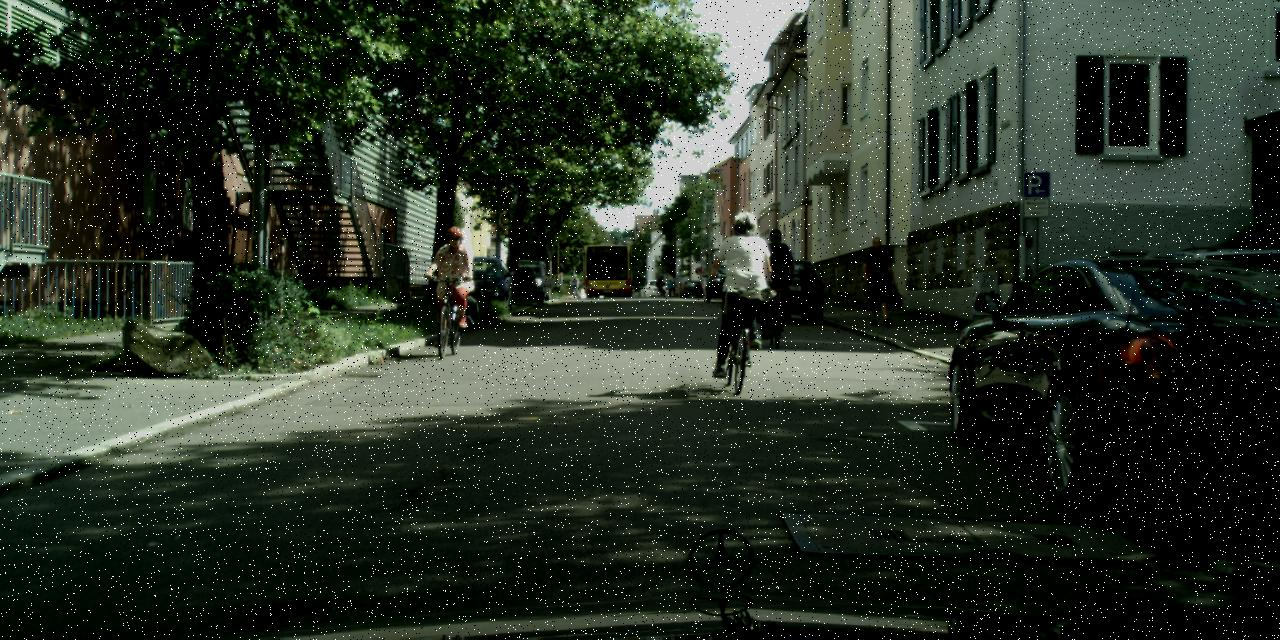ped: (710, 210, 771, 360), (431, 226, 474, 333), (754, 227, 795, 327), (860, 237, 896, 324), (656, 274, 664, 295), (666, 276, 674, 296)
